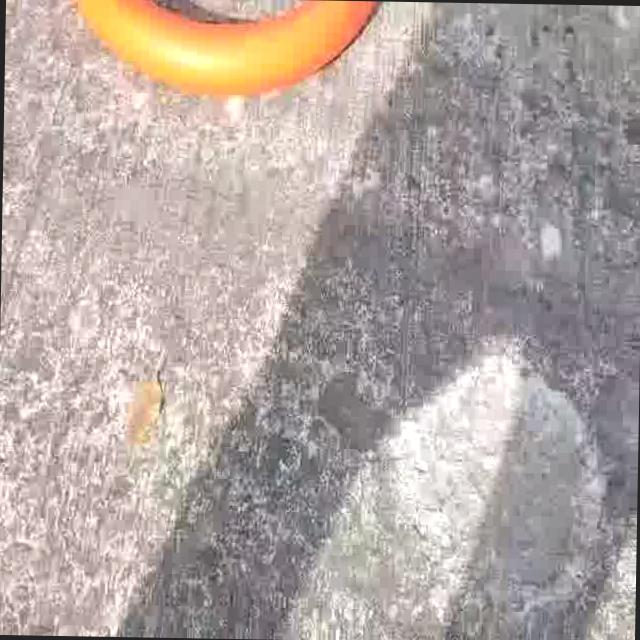note: (71, 0, 388, 97)
